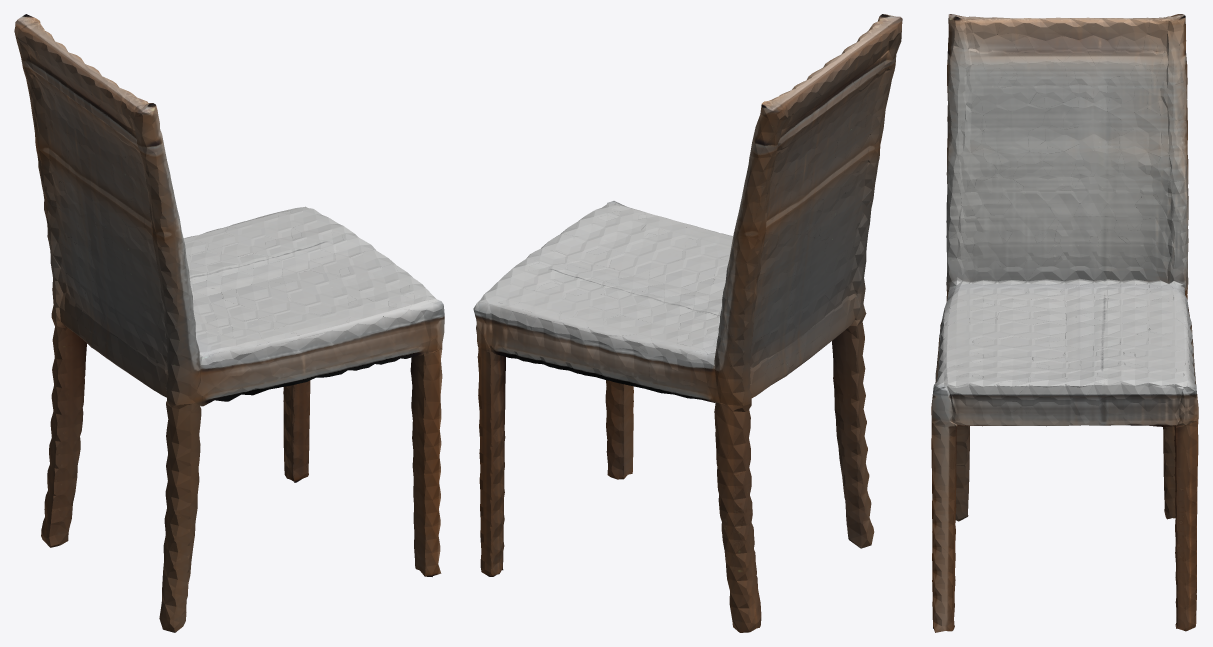
File: elem_94_115_131_206_6_7.obj
The picture shows the model from 3 angles, left to right: view 1: azimuth 30°, elevation 25°; view 2: azimuth 150°, elevation 25°; view 3: azimuth 270°, elevation 25°; orthographic projection. The views are drawn at different scales.
Bounding box in the file's own units: 0.4281 × 0.712 × 0.3509.
Materials: 1 (1 with a texture image).
